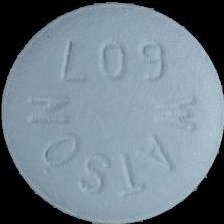0591-0607: (0, 0, 224, 224)
